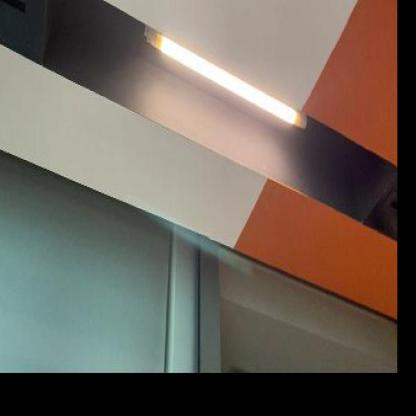light_on: (137, 14, 312, 149)
